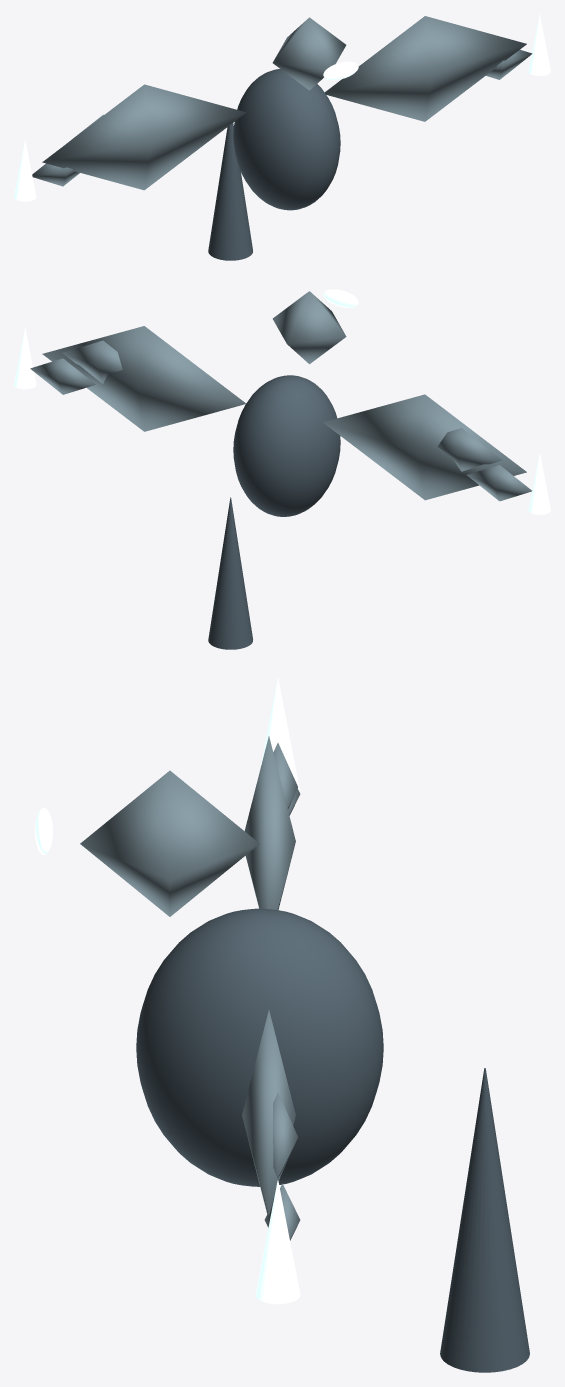
Rendered from flying-shadow.glb.
3 renders of one model, top to bottom at view 1: azimuth 30°, elevation 25°; view 2: azimuth 150°, elevation 25°; view 3: azimuth 270°, elevation 25°, orthographic. The views are drawn at different scales.
Parts seen in each view (by area): view 1: body, wing-1, wing1, tail, head, WingTip-1, WingTip1, WingFeatherB-1, WingFeatherB1, eyes; view 2: body, wing1, wing-1, tail, head, WingFeatherA-1, WingFeatherA1, WingFeatherB1, WingFeatherB-1, WingTip-1, WingTip1, eyes; view 3: body, tail, head, wing-1, wing1, WingTip1, WingTip-1, WingFeatherA1.
Boxes of the visible parts, x1,y1,x2,y2 form: body: (233,69,340,210); wing-1: (42,84,246,190); wing1: (325,16,526,121); tail: (208,123,252,260); head: (272,17,346,90); WingTip-1: (14,140,36,201); WingTip1: (528,14,550,75); WingFeatherB-1: (32,163,79,186); WingFeatherB1: (486,49,532,79); eyes: (323,61,358,80); body: (233,375,340,516); wing1: (42,326,245,431); wing-1: (323,394,526,500); tail: (208,497,252,649); head: (272,291,346,364); WingFeatherA-1: (437,428,502,471); WingFeatherA1: (62,340,122,383); WingFeatherB1: (30,358,95,394); WingFeatherB-1: (467,465,531,501); WingTip-1: (528,453,550,514); WingTip1: (14,327,36,389); eyes: (323,289,358,307); body: (136,908,383,1186); tail: (440,1068,529,1372); head: (80,770,259,916); wing-1: (244,736,295,910); wing1: (242,1010,295,1215); WingTip1: (255,1180,300,1304); WingTip-1: (259,678,300,792); WingFeatherA1: (273,1093,297,1178).
Size of the model in its own units: 2.74 by 1.43 by 1.1.
